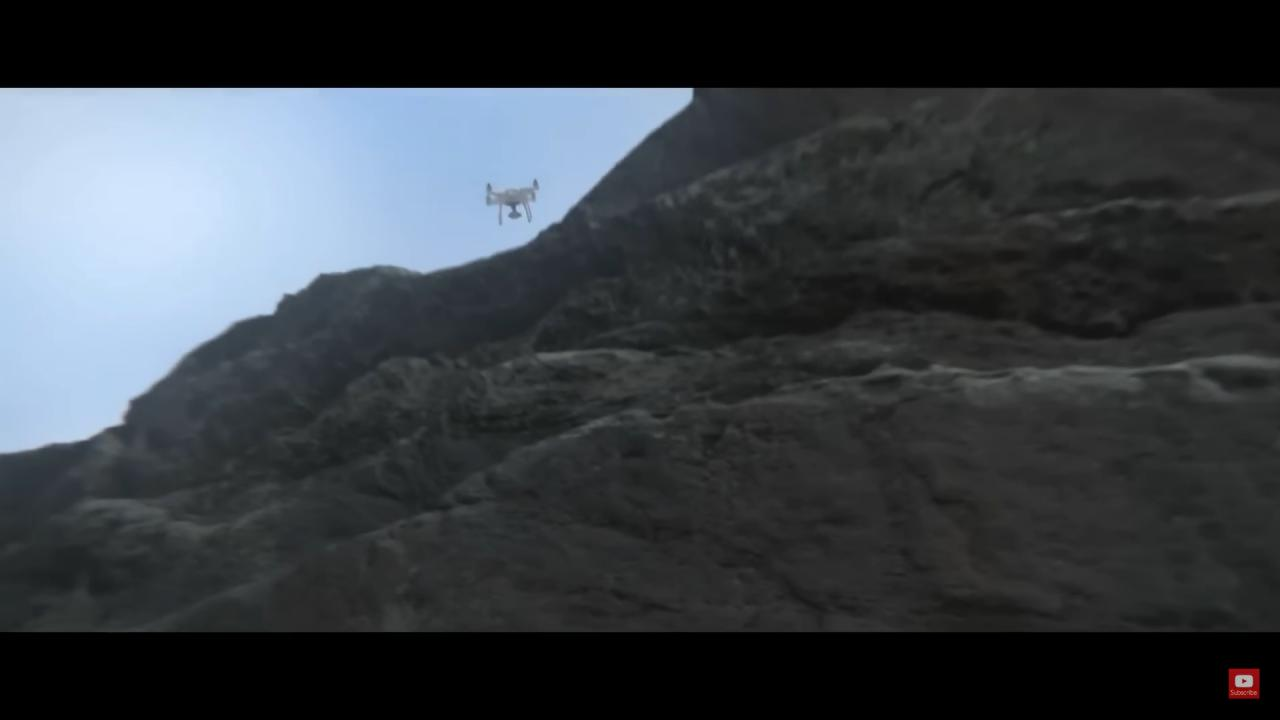Drone: (476, 172, 550, 236)
